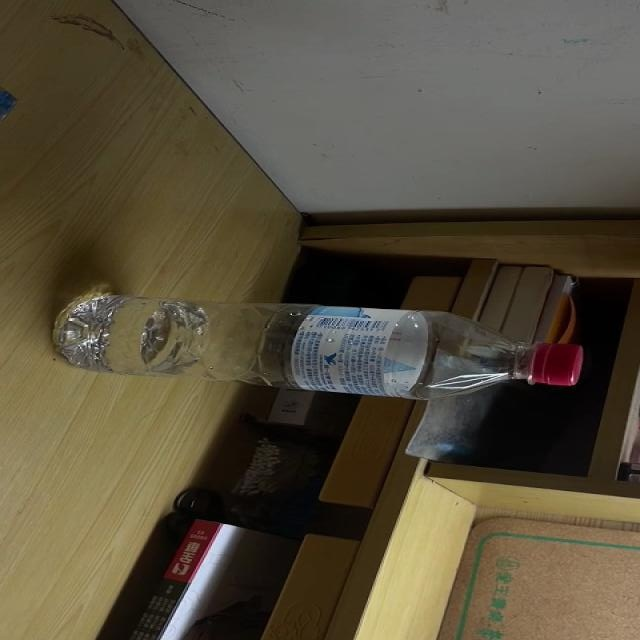Water: (51, 293, 584, 401)
